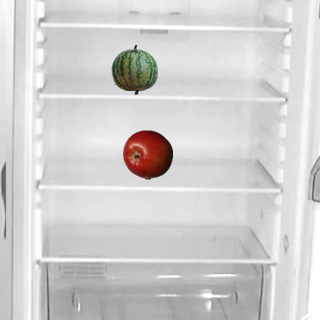Apple Braeburn: (122, 129, 172, 179)
Watermelon: (109, 44, 159, 94)
